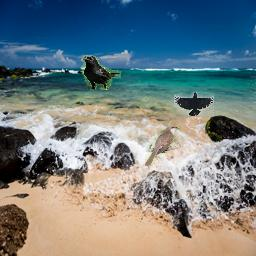Crow: (81, 55, 121, 90), (174, 92, 214, 116)
Cuckoo: (145, 126, 181, 166)
